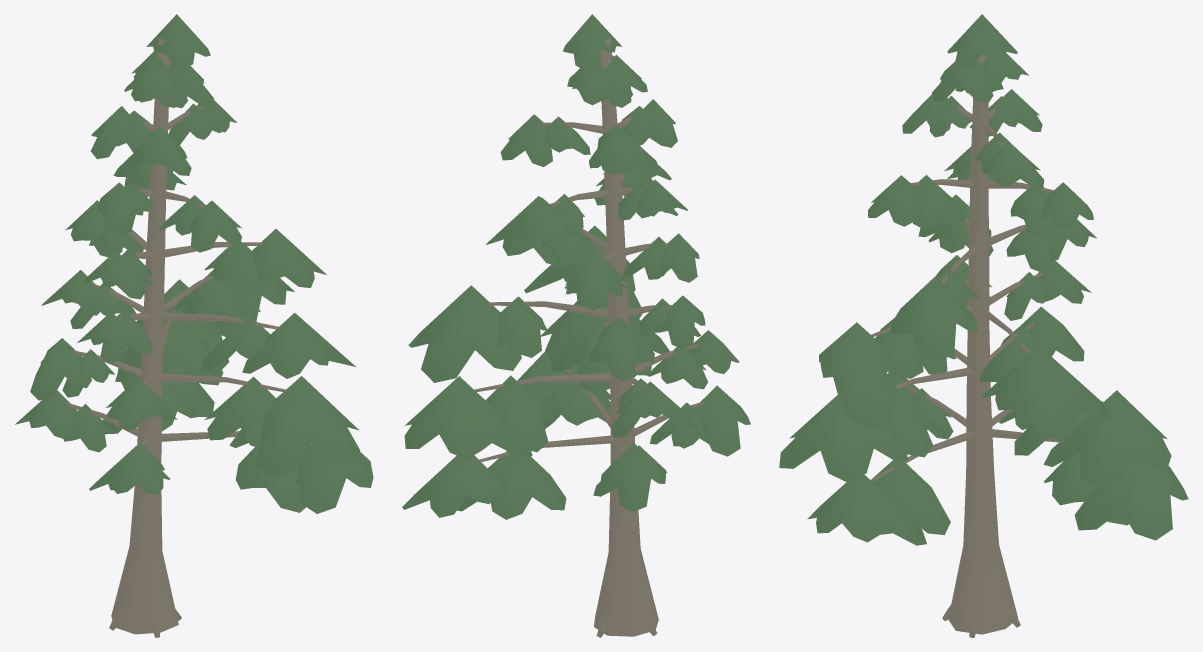
File: Blender_SitkaSpruce_1.glb
The picture shows the model from 3 angles, left to right: view 1: azimuth 30°, elevation 25°; view 2: azimuth 150°, elevation 25°; view 3: azimuth 270°, elevation 25°; orthographic projection. The views are drawn at different scales.
Parts seen in each view (by area): view 1: Blender_SitkaSpruce_1; view 2: Blender_SitkaSpruce_1; view 3: Blender_SitkaSpruce_1.
Boxes of the visible parts, x1,y1,x2,y2 form: Blender_SitkaSpruce_1: [15, 14, 373, 637]; Blender_SitkaSpruce_1: [402, 14, 750, 637]; Blender_SitkaSpruce_1: [779, 14, 1188, 637].
Bounding box in the file's own units: 16.73 × 35.75 × 21.2.
